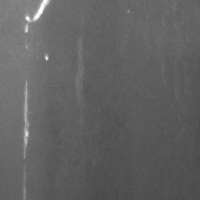scratches: (20, 78, 33, 160), (23, 0, 52, 35)
